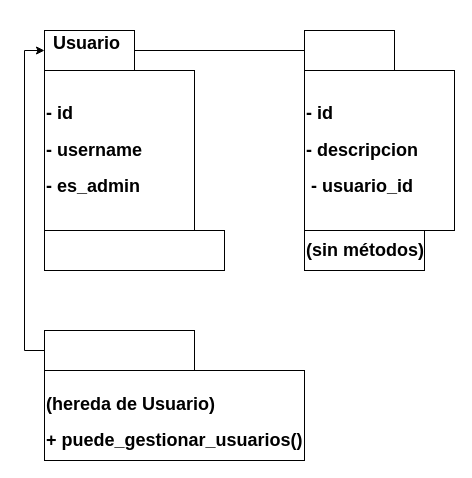
This 472x478 diagram has some shape labels left out. The shapes that lost their labels are listed below. From the top down, each one's box as (x1, y1, x2, y2) in pixels, then its label:
(304, 30, 394, 70): Tarea
(44, 230, 224, 270): + es_administrador()
(44, 330, 194, 370): UsuarioAdmin
